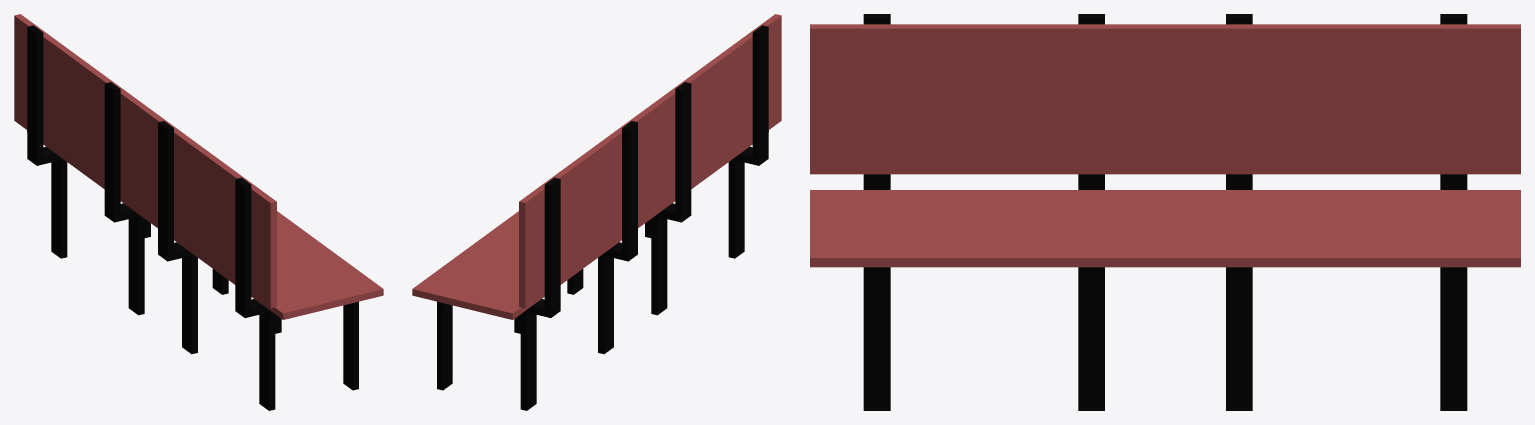
Rendered from Bench 2.fbx.
3 renders of one model, left to right at view 1: azimuth 30°, elevation 25°; view 2: azimuth 150°, elevation 25°; view 3: azimuth 270°, elevation 25°, orthographic. The views are drawn at different scales.
Parts seen in each view (by area): view 1: Bench_2; view 2: Bench_2; view 3: Bench_2.
Boxes of the visible parts, x1,y1,x2,y2 form: Bench_2: (14, 14, 383, 410); Bench_2: (412, 14, 781, 410); Bench_2: (810, 14, 1520, 410).
Size of the model in its own units: 57 by 105 by 212.
